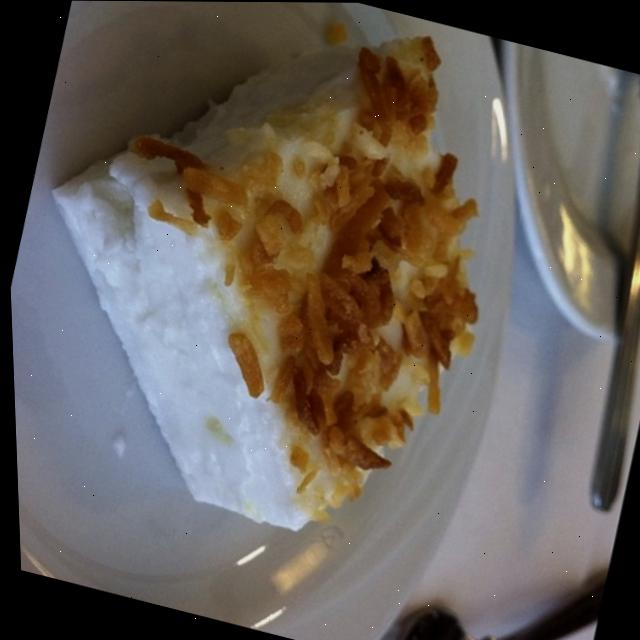蛋糕甜品: (0, 0, 601, 615)
